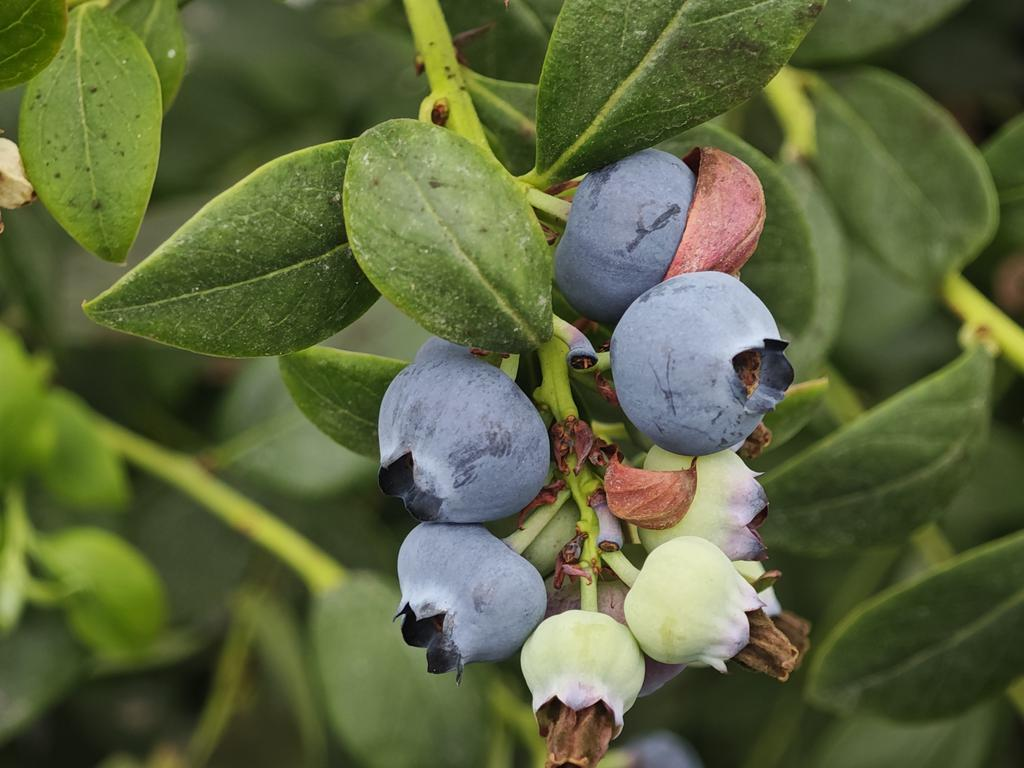RipeBlueBerry: (351, 320, 578, 520), (603, 269, 800, 454), (372, 518, 549, 680)
UnripeBlueBerry: (627, 526, 780, 681)
